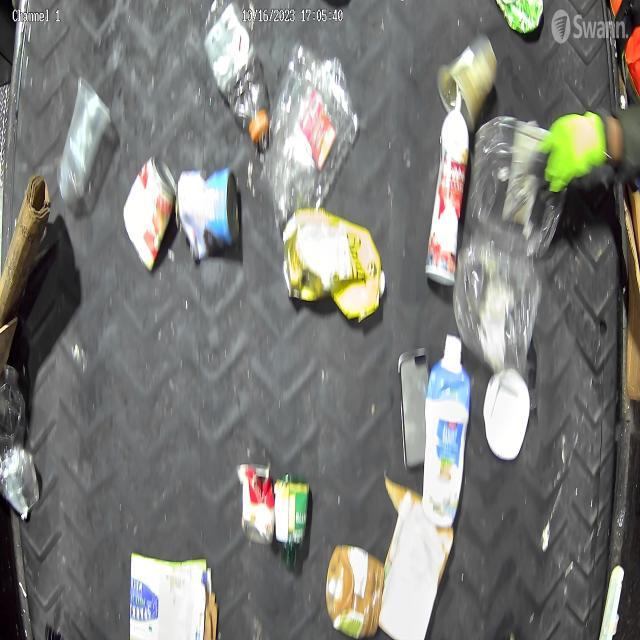can: (120, 155, 171, 269), (182, 162, 237, 262)
non_white_jug: (282, 204, 386, 318)
plastic_bottle: (279, 49, 354, 192), (201, 0, 270, 140), (0, 360, 37, 520)
